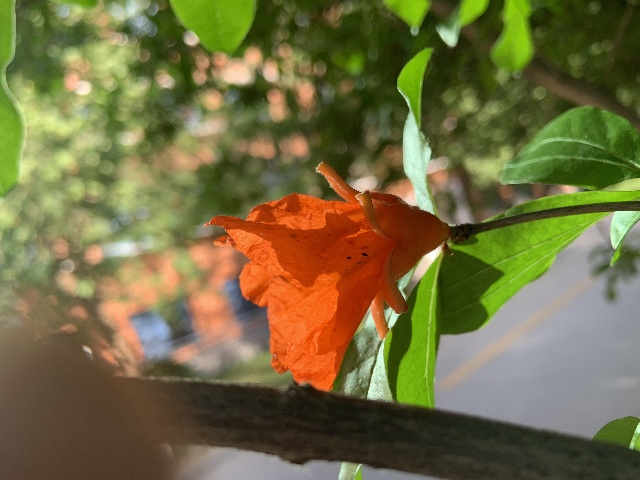flower: (204, 160, 448, 394)
